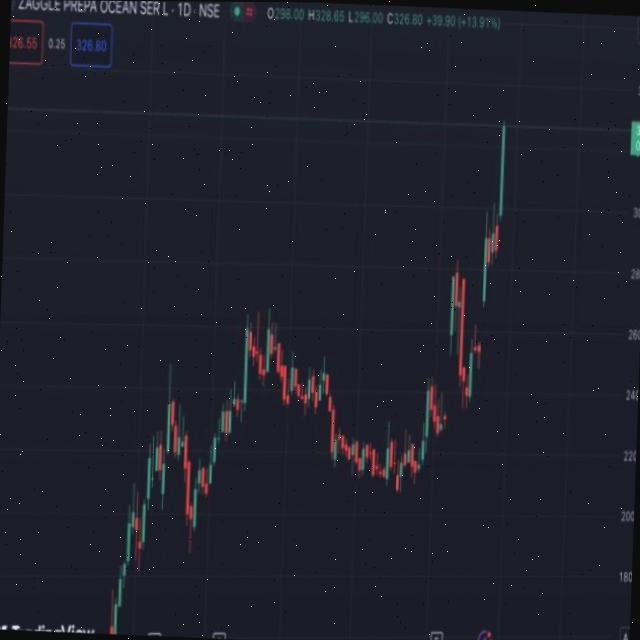Gap Up: (441, 271, 457, 434), (476, 230, 490, 366)
